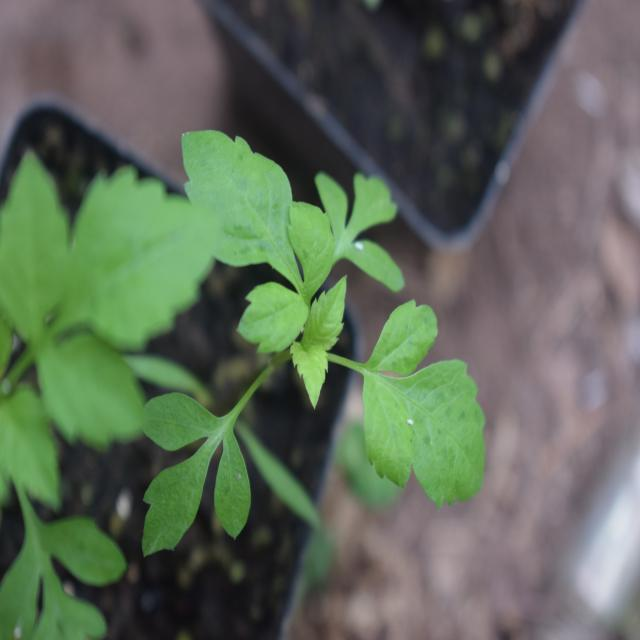Bidens pilosa: (162, 119, 472, 538)
